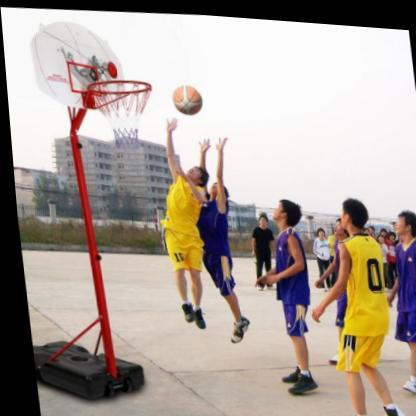basketball: (170, 81, 203, 114)
rim: (85, 74, 156, 148)
